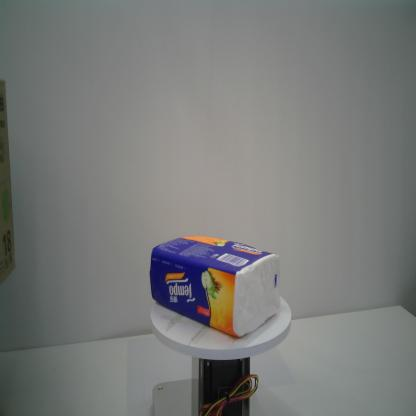Tissue: (148, 231, 282, 340)
